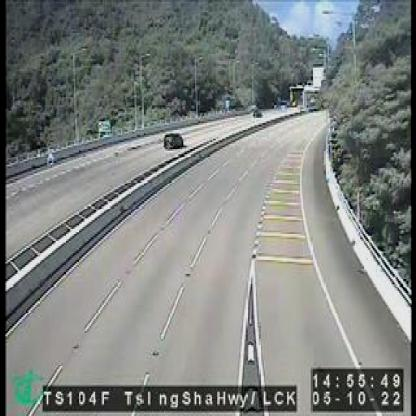Car: (162, 132, 180, 147)
